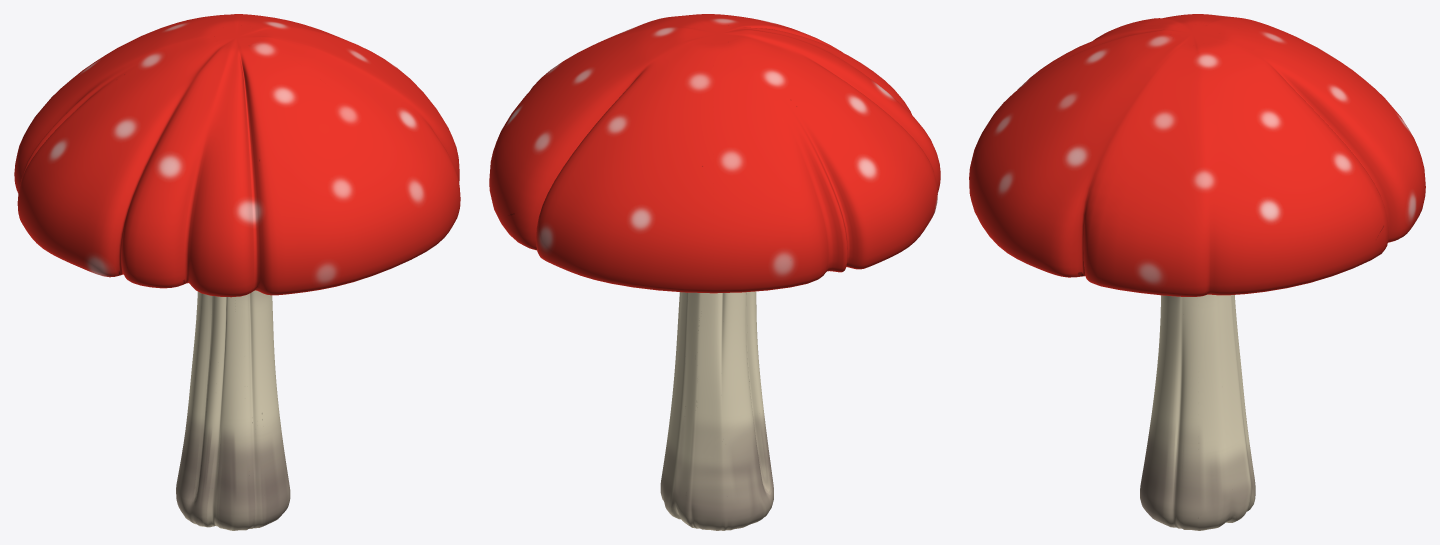
File: Fliegenpilz.fbx
3 views of the same model, side by side, from view 1: azimuth 30°, elevation 25°; view 2: azimuth 150°, elevation 25°; view 3: azimuth 270°, elevation 25° (orthographic).
Parts seen in each view (by area): view 1: Kopf, Pilzstamm; view 2: Kopf, Pilzstamm; view 3: Kopf, Pilzstamm.
Boxes of the visible parts, x1,y1,x2,y2 form: Kopf: [14, 14, 460, 297]; Pilzstamm: [176, 290, 290, 530]; Kopf: [489, 14, 940, 293]; Pilzstamm: [660, 291, 773, 530]; Kopf: [969, 14, 1425, 296]; Pilzstamm: [1140, 294, 1255, 530].
Bounding box in the file's own units: 142 × 166 × 142.
Materials: 2 (2 with a texture image).
